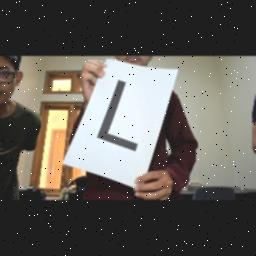l: (80, 76, 148, 160)
